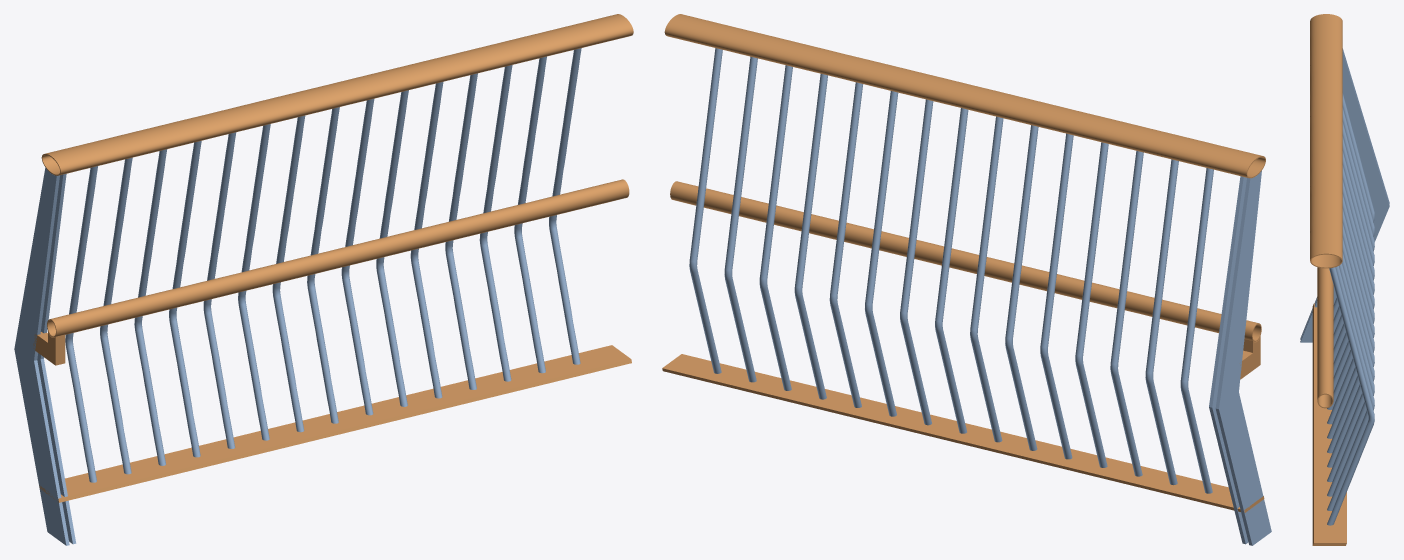
The model's file is park-railing.gltf.
The picture shows the model from 3 angles, left to right: view 1: azimuth 30°, elevation 25°; view 2: azimuth 150°, elevation 25°; view 3: azimuth 270°, elevation 25°; orthographic projection. The views are drawn at different scales.
Parts seen in each view (by area): view 1: 放样 [254544], 放样 [254556], 放样 [254568], 拉伸 [254487], 拉伸 [254496], 放样 [254660], 放样 [254588], 放样 [254624], 放样 [254684], 放样 [254612], 放样 [254528], 放样 [254636] (+9 smaller); view 2: 放样 [254544], 放样 [254556], 放样 [254568], 拉伸 [254487], 放样 [254588], 放样 [254600], 放样 [254732], 放样 [254528], 放样 [254720], 放样 [254508], 放样 [254696], 放样 [254612] (+8 smaller); view 3: 放样 [254544], 放样 [254556], 拉伸 [254496], 放样 [254568], 放样 [254732], 放样 [254720], 放样 [254708], 放样 [254696], 放样 [254684], 放样 [254672], 放样 [254660], 放样 [254648] (+8 smaller).
Part boxes in pixels (bbox=[...]): 放样 [254544]: bbox=[41, 14, 633, 175]; 放样 [254556]: bbox=[39, 345, 631, 502]; 放样 [254568]: bbox=[47, 179, 629, 337]; 拉伸 [254487]: bbox=[14, 167, 69, 545]; 拉伸 [254496]: bbox=[37, 174, 76, 544]; 放样 [254660]: bbox=[341, 99, 374, 415]; 放样 [254588]: bbox=[134, 149, 167, 465]; 放样 [254624]: bbox=[238, 124, 270, 440]; 放样 [254684]: bbox=[410, 81, 443, 398]; 放样 [254612]: bbox=[203, 132, 236, 448]; 放样 [254528]: bbox=[100, 157, 132, 474]; 放样 [254636]: bbox=[272, 115, 305, 432]; 放样 [254544]: bbox=[664, 14, 1265, 178]; 放样 [254556]: bbox=[662, 354, 1264, 512]; 放样 [254568]: bbox=[670, 181, 1261, 341]; 拉伸 [254487]: bbox=[1215, 170, 1271, 545]; 放样 [254588]: bbox=[1110, 151, 1143, 476]; 放样 [254600]: bbox=[1075, 142, 1108, 467]; 放样 [254732]: bbox=[689, 48, 722, 373]; 放样 [254528]: bbox=[1145, 159, 1178, 485]; 放样 [254720]: bbox=[724, 56, 757, 382]; 放样 [254508]: bbox=[1180, 168, 1213, 493]; 放样 [254696]: bbox=[794, 74, 827, 399]; 放样 [254612]: bbox=[1040, 133, 1073, 459]; 放样 [254544]: bbox=[1310, 14, 1342, 268]; 放样 [254556]: bbox=[1312, 303, 1346, 545]; 拉伸 [254496]: bbox=[1300, 51, 1389, 342]; 放样 [254568]: bbox=[1317, 267, 1333, 408]; 放样 [254732]: bbox=[1327, 267, 1374, 525]; 放样 [254720]: bbox=[1327, 266, 1374, 510]; 放样 [254708]: bbox=[1327, 263, 1374, 496]; 放样 [254696]: bbox=[1327, 251, 1374, 482]; 放样 [254684]: bbox=[1327, 237, 1374, 467]; 放样 [254672]: bbox=[1327, 223, 1374, 453]; 放样 [254660]: bbox=[1327, 208, 1374, 438]; 放样 [254648]: bbox=[1327, 194, 1374, 424].
Bounding box in the file's own units: 1.74 × 1.1 × 0.2743.
